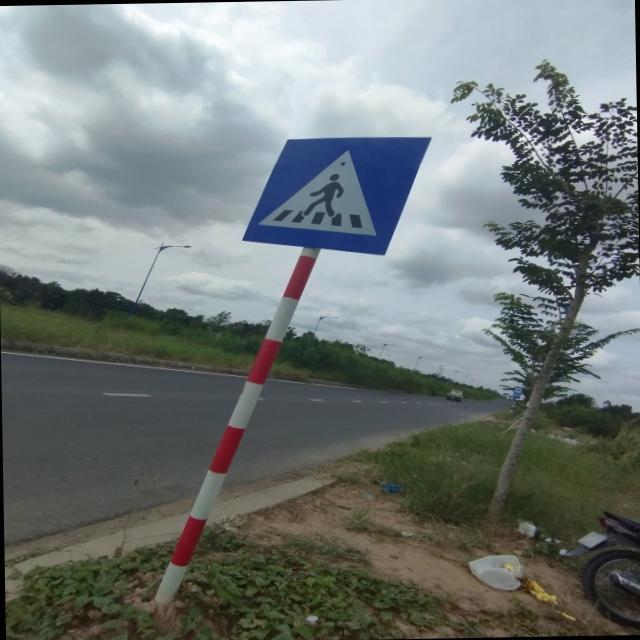Giao_Nhau_Duong_Uu_Tien: (238, 135, 432, 257)
